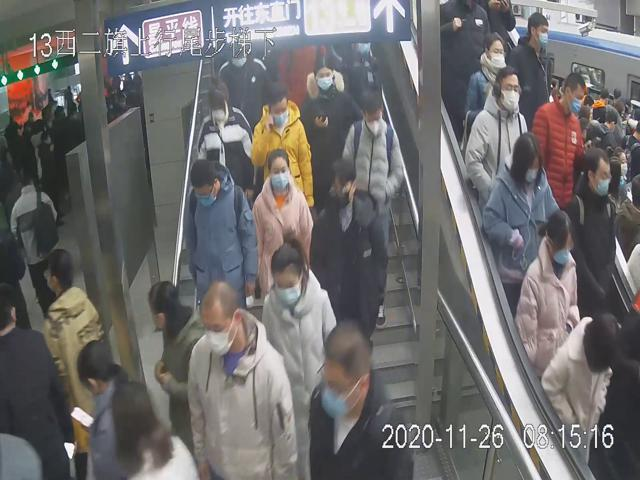person: (183, 281, 300, 480), (256, 233, 338, 480), (337, 86, 406, 336), (308, 152, 390, 350), (480, 131, 565, 311), (246, 147, 318, 324), (182, 156, 258, 318), (511, 208, 581, 379), (462, 65, 532, 218), (299, 58, 362, 217), (250, 80, 315, 223), (532, 61, 592, 214), (189, 73, 256, 208)
